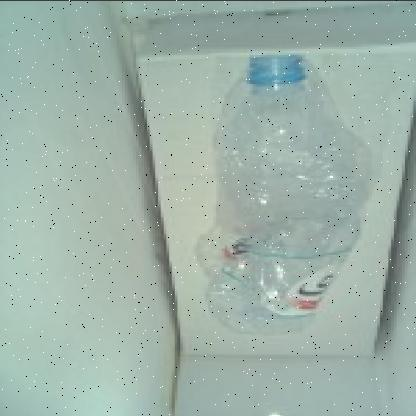Plastic Bottle: (197, 54, 364, 330)
